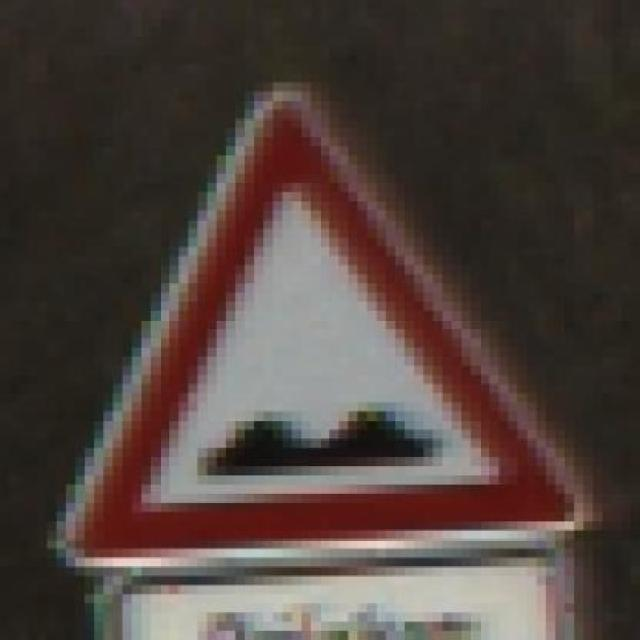Uneven Road: (38, 64, 602, 567)
